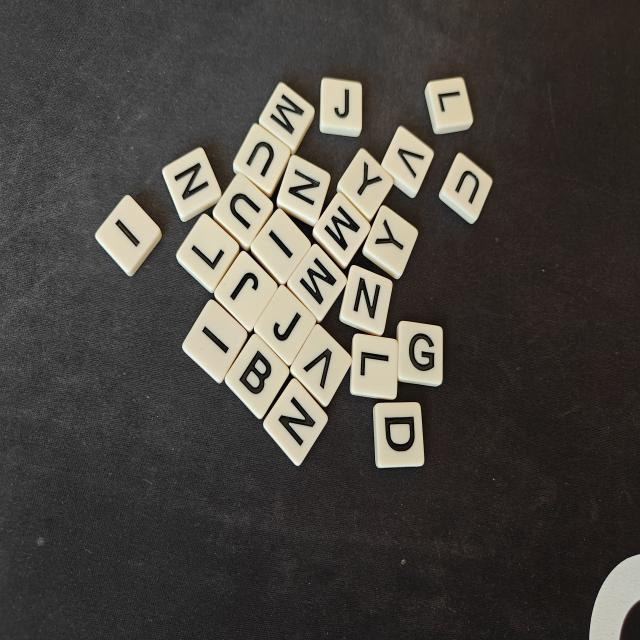b: (225, 334, 289, 418)
d: (373, 402, 424, 468)
g: (397, 320, 443, 386)
i: (183, 300, 247, 384), (95, 195, 161, 276), (250, 208, 311, 285)
j: (214, 251, 278, 332), (254, 285, 316, 366), (319, 78, 362, 137)
l: (176, 214, 239, 293), (350, 334, 398, 400), (425, 77, 473, 134)
m: (287, 244, 347, 323), (312, 193, 370, 269), (259, 82, 315, 154)
n: (264, 378, 328, 466), (162, 147, 221, 221), (339, 265, 392, 336), (277, 155, 330, 226)
u: (213, 174, 273, 250), (233, 124, 291, 197), (439, 153, 492, 224)
v: (291, 324, 352, 407), (382, 126, 434, 198)
y: (362, 205, 418, 279), (337, 149, 393, 222)
